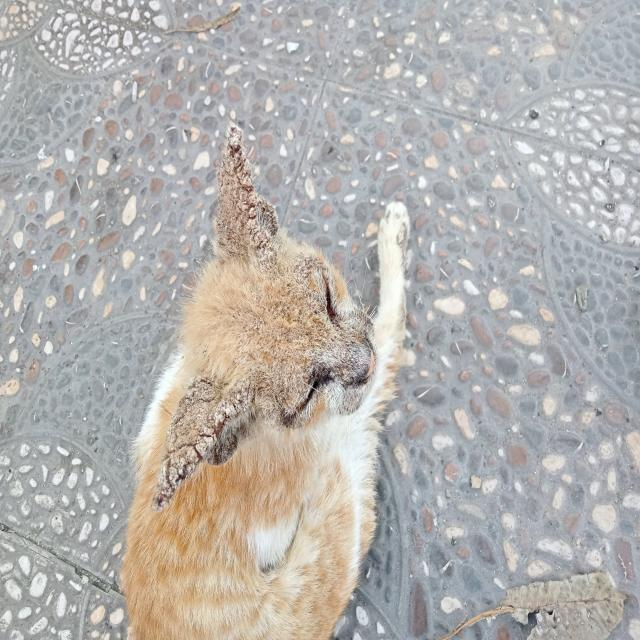cat-scabies: (147, 378, 267, 508), (287, 258, 378, 420), (207, 115, 284, 258)
